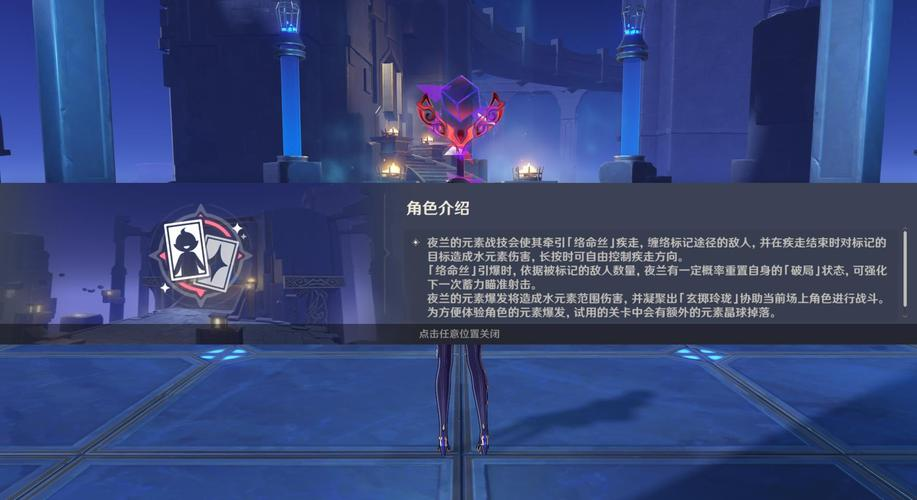夜兰: (420, 339, 499, 460)
